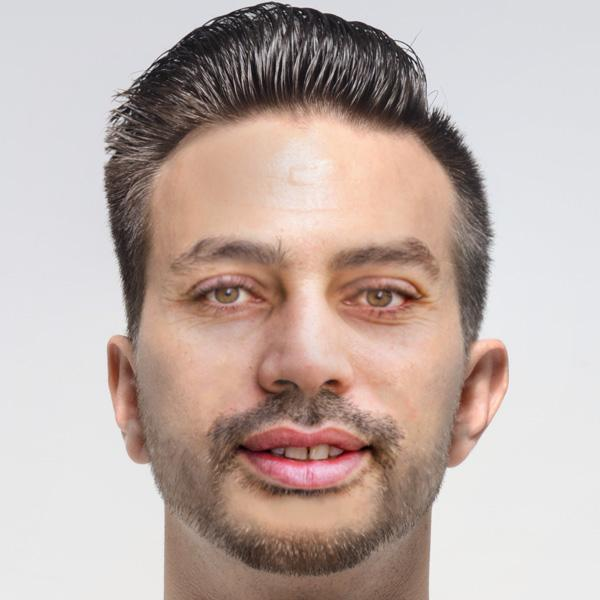Eyes: (333, 268, 427, 328), (179, 266, 273, 325)
